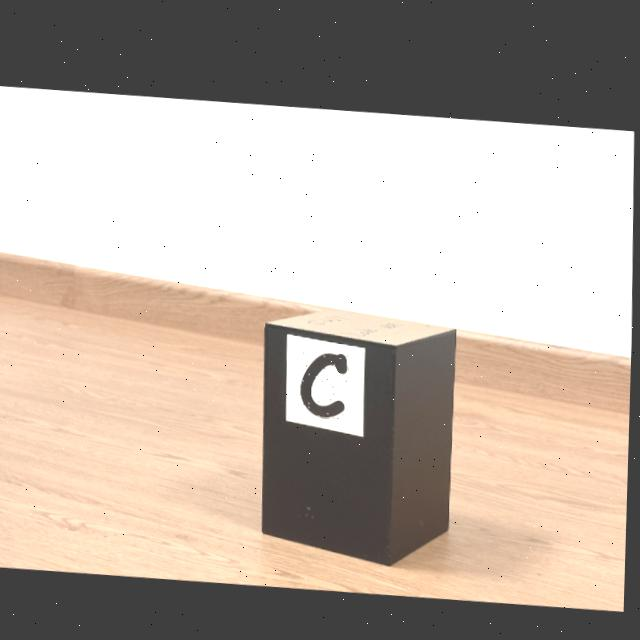C: (303, 347, 350, 411)
